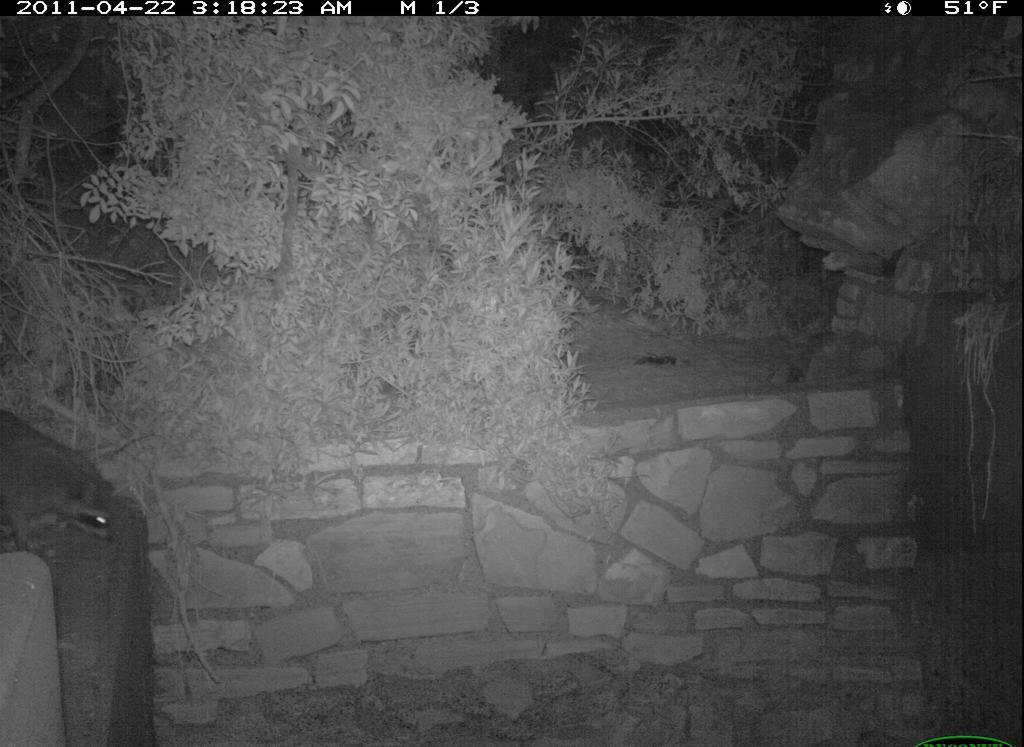raccoon: (2, 408, 123, 564)
